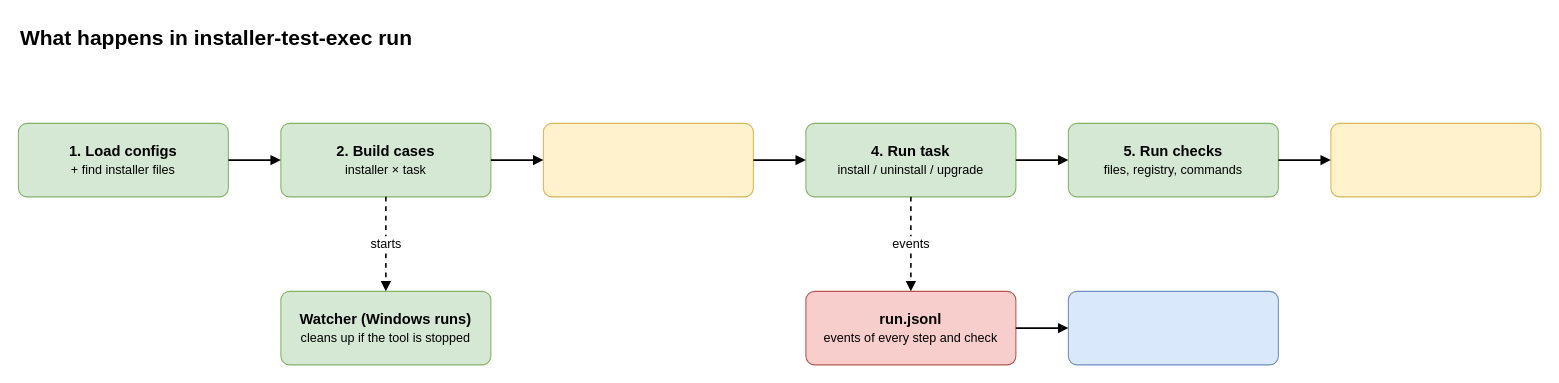
Image size: 1559x383. Some labels were removed from this diagram. The centre of each missing label's shape, as x and y in pixels:
3. Start container one per case, in parallel: the point at 647,159
6. Remove container (kept with --keep if failed): the point at 1435,159
report PASS / FAIL / SKIPPED per case: the point at 1172,327
